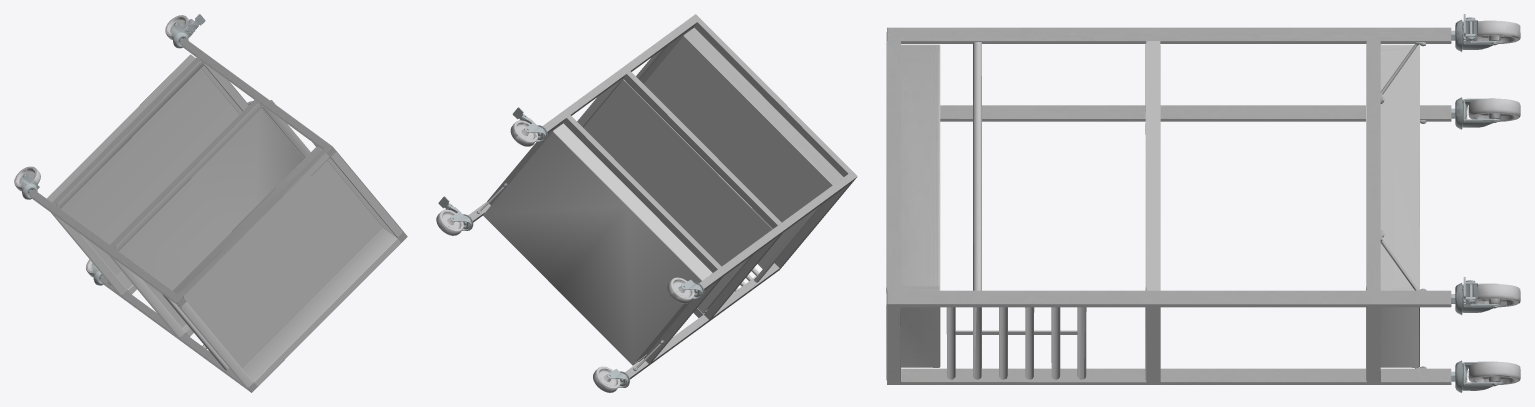
The model's file is dish_return_cart.obj.
The picture shows the model from 3 angles, left to right: view 1: azimuth 30°, elevation 25°; view 2: azimuth 150°, elevation 25°; view 3: azimuth 270°, elevation 25°; orthographic projection. The views are drawn at different scales.
Parts seen in each view (by area): view 1: geometry_0; view 2: geometry_0; view 3: geometry_0.
Boxes of the visible parts, x1=… form: geometry_0: x1=14, y1=14, x2=407, y2=392; geometry_0: x1=436, y1=14, x2=857, y2=392; geometry_0: x1=886, y1=14, x2=1520, y2=392.
Bounding box in the file's own units: 0.7934 × 0.7327 × 0.8982.
1 material, 1 textured.
